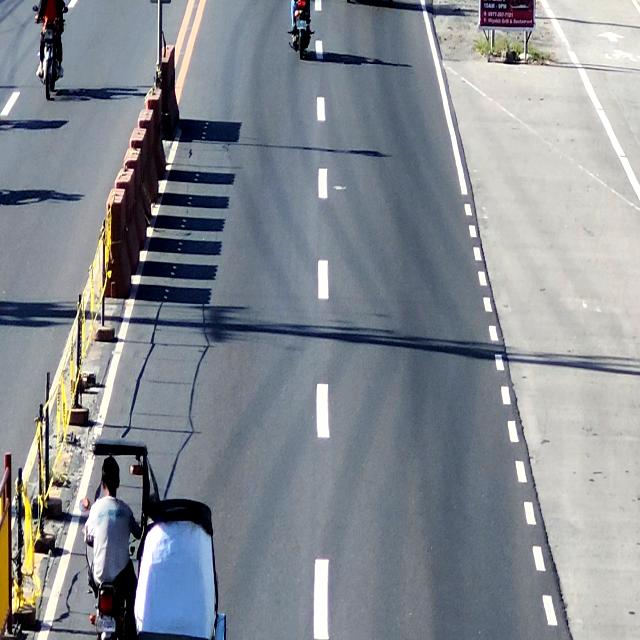Motorcycle: (285, 0, 316, 68)
Tricycle: (83, 435, 227, 640)
